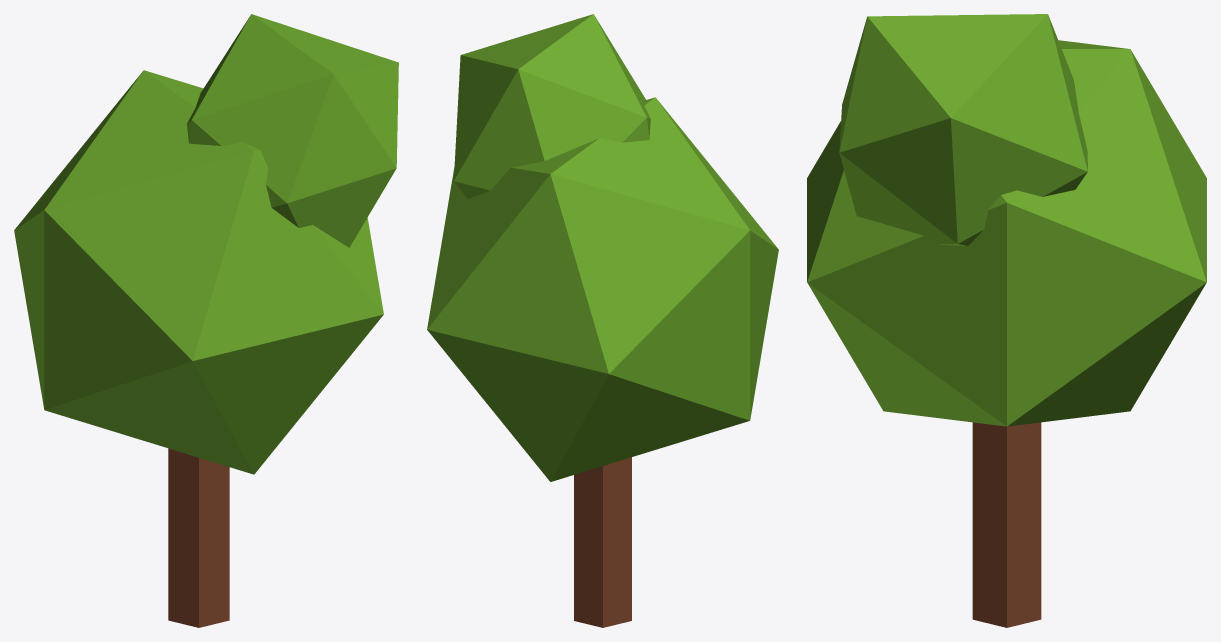
File: tree.glb
The picture shows the model from 3 angles, left to right: view 1: azimuth 30°, elevation 25°; view 2: azimuth 150°, elevation 25°; view 3: azimuth 270°, elevation 25°; orthographic projection. The views are drawn at different scales.
Parts seen in each view (by area): view 1: Crown, Crown2, Trunk; view 2: Crown, Crown2, Trunk; view 3: Crown, Crown2, Trunk.
Boxes of the visible parts, x1=… form: Crown: x1=14, y1=70, x2=383, y2=474; Crown2: x1=187, y1=14, x2=398, y2=247; Trunk: x1=168, y1=448, x2=229, y2=627; Crown: x1=427, y1=97, x2=778, y2=481; Crown2: x1=453, y1=14, x2=650, y2=199; Trunk: x1=574, y1=457, x2=631, y2=627; Crown: x1=807, y1=40, x2=1206, y2=426; Crown2: x1=839, y1=14, x2=1087, y2=245; Trunk: x1=972, y1=422, x2=1041, y2=627.
Size of the model in its own units: 1.72 by 2.84 by 1.62.
